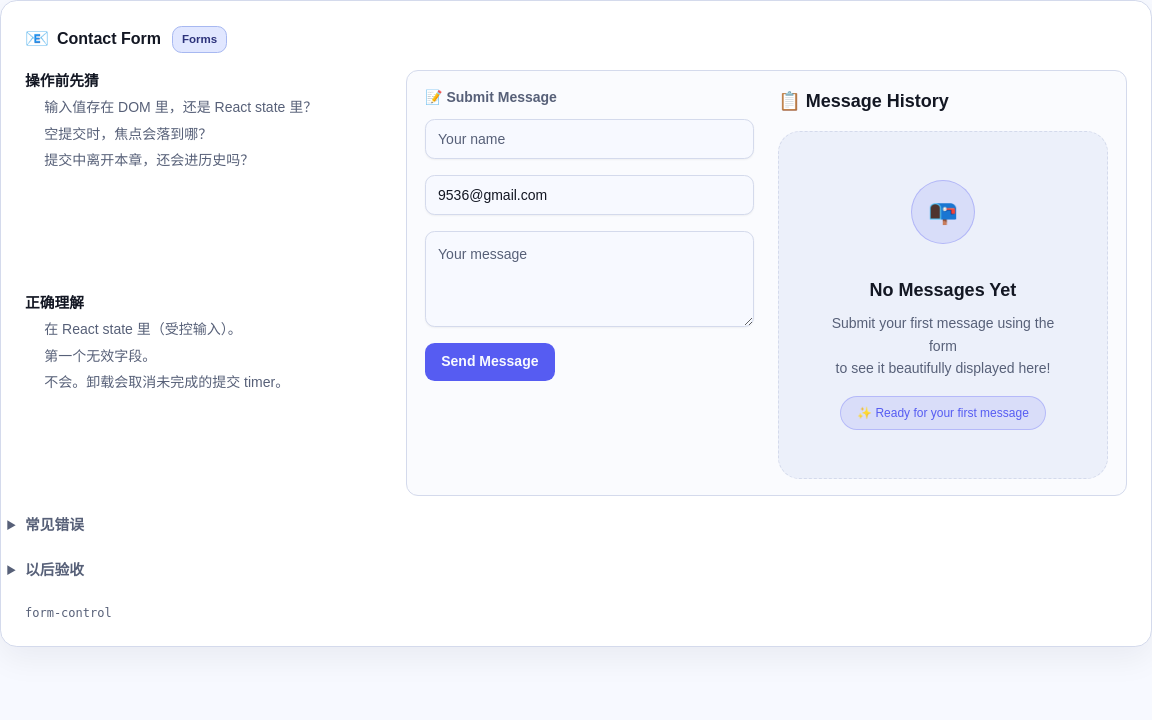
Test case: async tutorial examples › announces validation errors and focuses the first invalid field
Step 1. Click the button "Send Message" → (490,362), box left=425, top=343, right=555, bottom=381
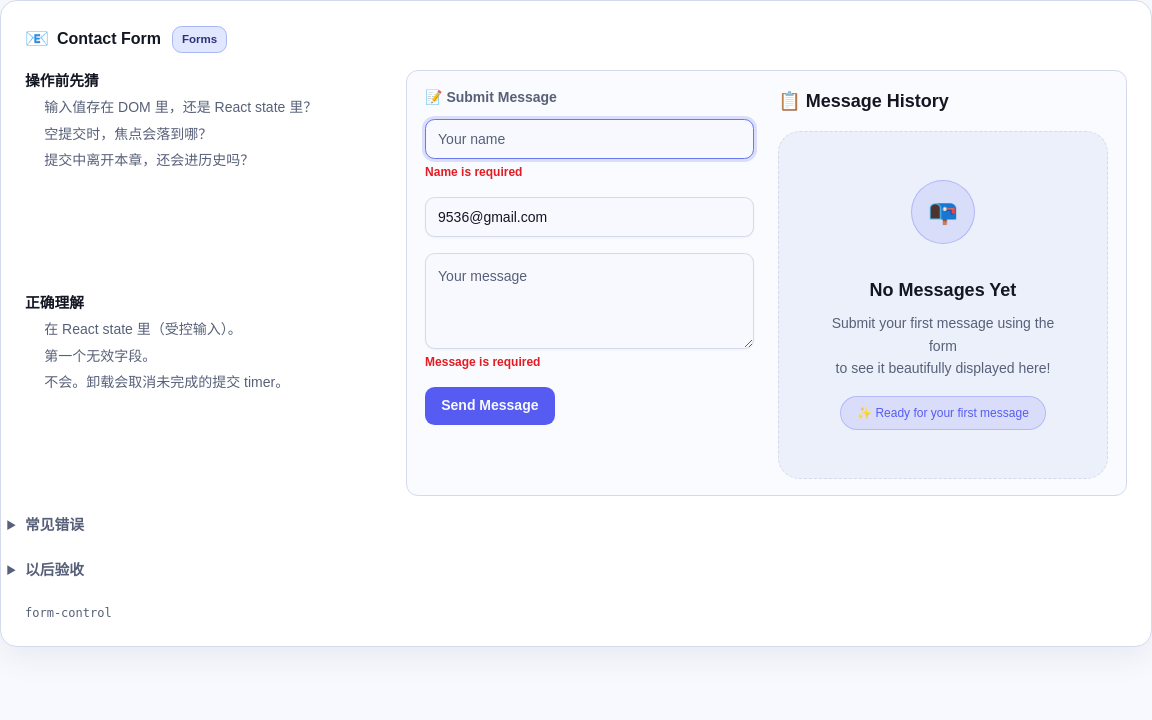
Expected: the number of messages is 2, left=425, top=165, right=522, bottom=179; left=425, top=355, right=540, bottom=369
